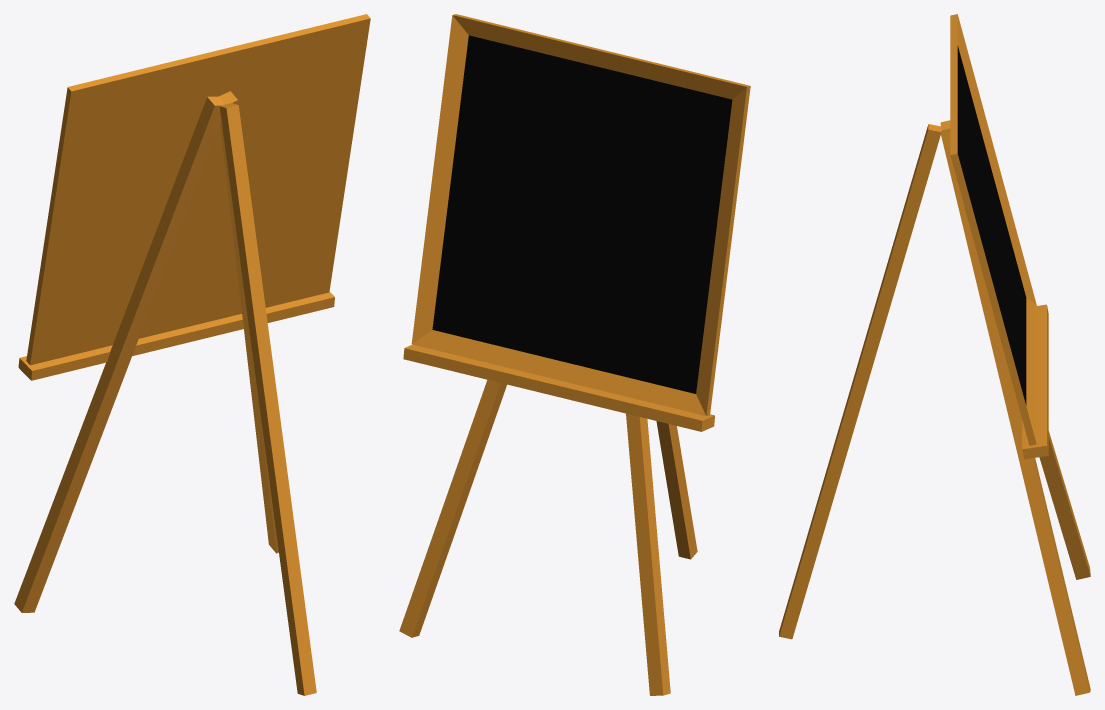
Rendered from blackboard.fbx.
The picture shows the model from 3 angles, left to right: view 1: azimuth 30°, elevation 25°; view 2: azimuth 150°, elevation 25°; view 3: azimuth 270°, elevation 25°; orthographic projection. The views are drawn at different scales.
Parts seen in each view (by area): view 1: frame, legs, legs.001, bottom; view 2: board, frame, legs, bottom, legs.001; view 3: legs, legs.001, board, frame, bottom.
Boxes of the visible parts, x1=… form: frame: x1=26, y1=14, x2=370, y2=365; legs: x1=14, y1=91, x2=278, y2=612; legs.001: x1=219, y1=103, x2=316, y2=695; bottom: x1=18, y1=292, x2=334, y2=380; board: x1=432, y1=35, x2=732, y2=393; frame: x1=411, y1=14, x2=750, y2=415; legs: x1=399, y1=380, x2=670, y2=695; bottom: x1=403, y1=344, x2=714, y2=431; legs.001: x1=656, y1=421, x2=697, y2=559; legs: x1=940, y1=120, x2=1090, y2=695; legs.001: x1=779, y1=124, x2=941, y2=639; board: x1=957, y1=46, x2=1026, y2=405; frame: x1=950, y1=14, x2=1036, y2=445; bottom: x1=1022, y1=304, x2=1048, y2=459.
Bounding box in the file's own units: 123 × 224 × 114.
